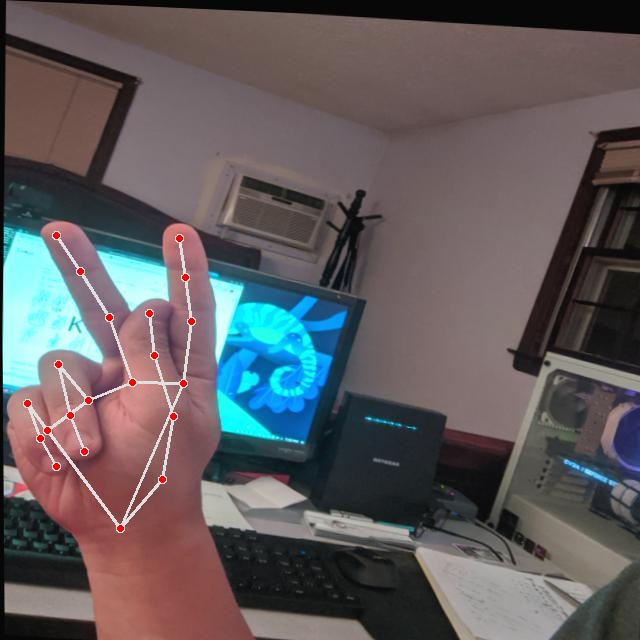K: (1, 204, 242, 555)
